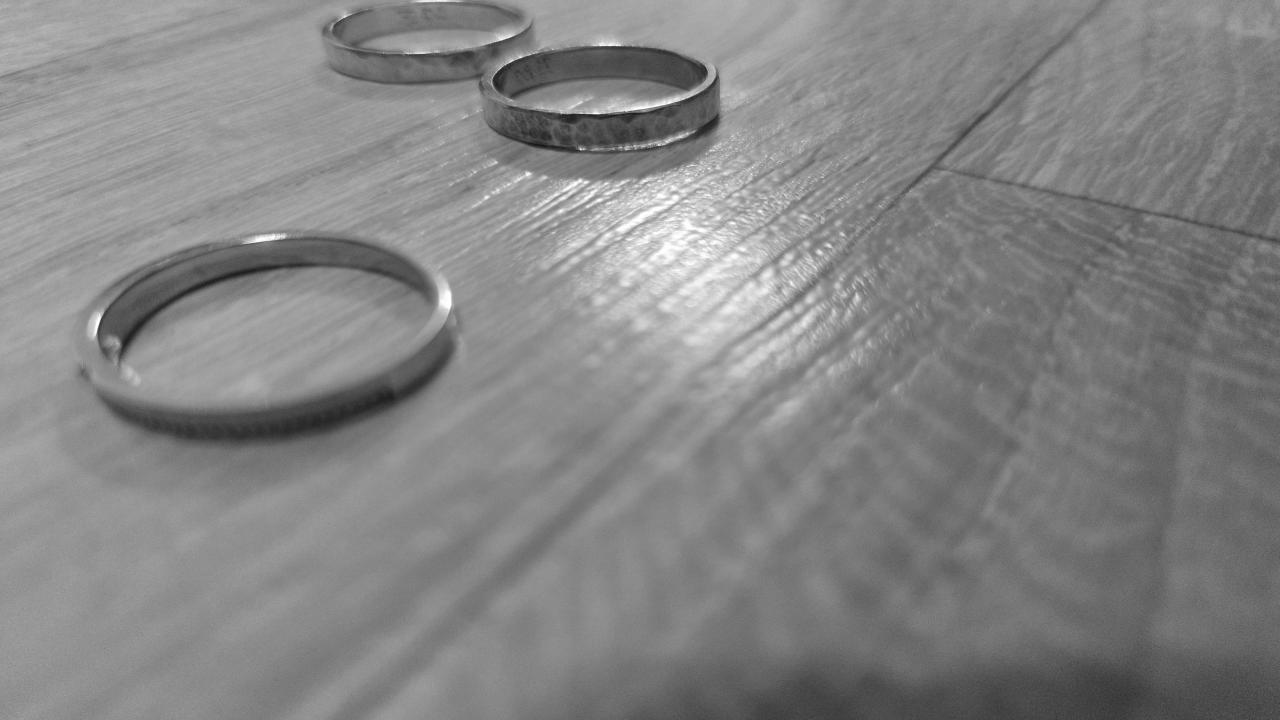ring: (72, 229, 462, 433), (478, 44, 717, 153), (320, 0, 534, 85)
